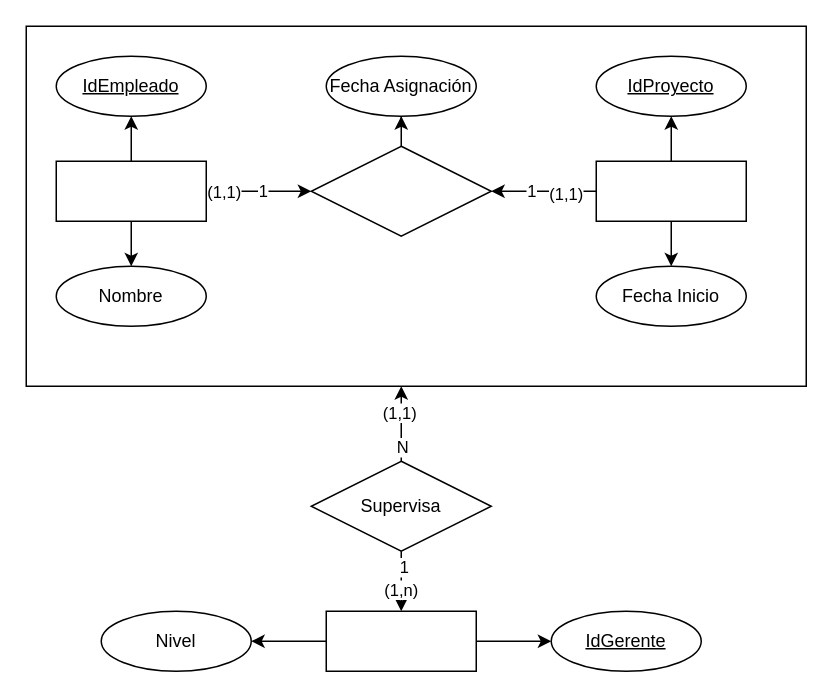
Image size: 833x698. Some labels were removed from this diagram. Here are the shapes that lost their labels. From the top down, the centre of each, then its label:
At [130,190]: "Empleado".
At [400,190]: "Asignado".
At [670,190]: "Proyecto".
At [400,640]: "Gerente".
